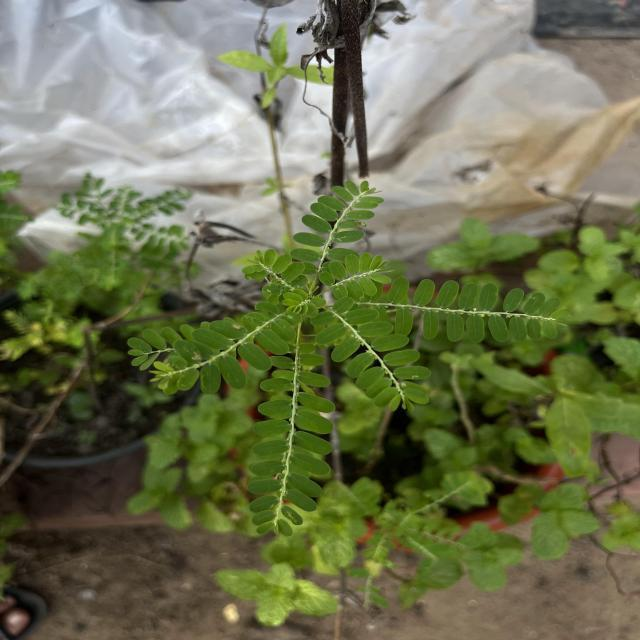Phyllanthus niruri: (246, 333, 336, 540), (360, 274, 578, 346), (309, 296, 437, 412), (160, 306, 300, 396), (290, 176, 384, 276), (313, 250, 393, 300), (240, 246, 306, 298)
